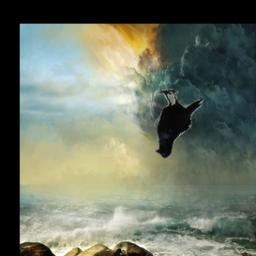Crow: (154, 90, 203, 160)
